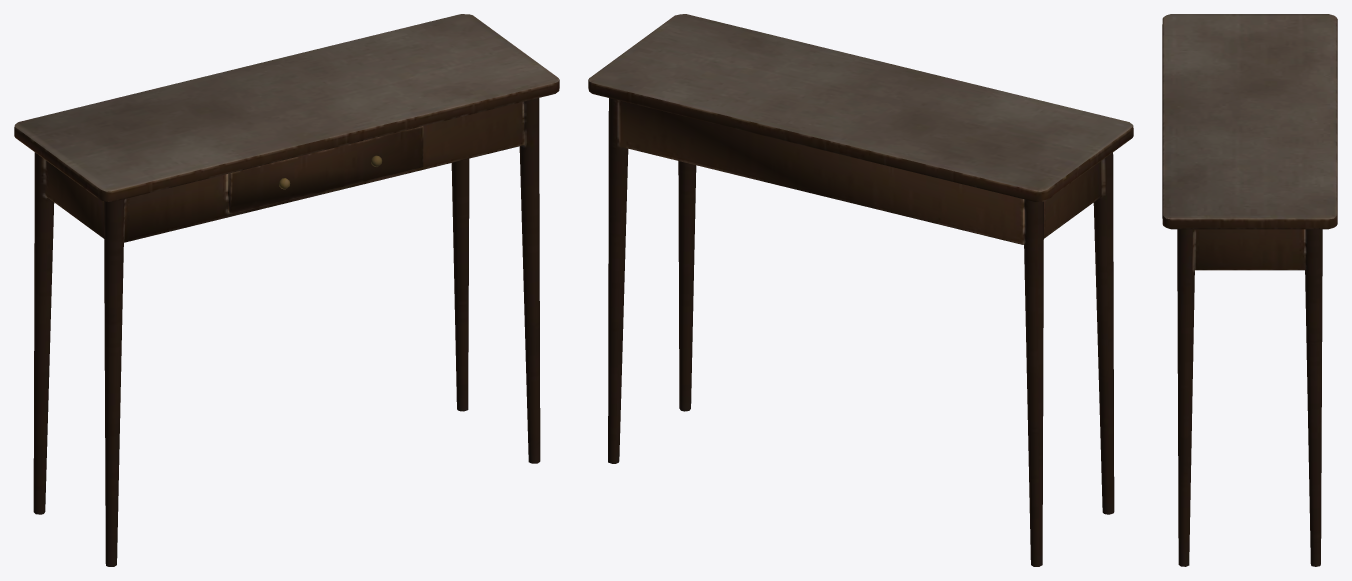
File: hall_table-low.glb
3 renders of one model, left to right at view 1: azimuth 30°, elevation 25°; view 2: azimuth 150°, elevation 25°; view 3: azimuth 270°, elevation 25°, orthographic. The views are drawn at different scales.
Visible parts, largest first — view 1: hall_table-low; view 2: hall_table-low; view 3: hall_table-low.
Boxes of the visible parts, bbox=[...] form: hall_table-low: bbox=[14, 14, 559, 566]; hall_table-low: bbox=[588, 14, 1133, 566]; hall_table-low: bbox=[1162, 14, 1337, 566].
Bounding box in the file's own units: 0.9985 × 0.8002 × 0.3585.
1 material, 1 textured.
